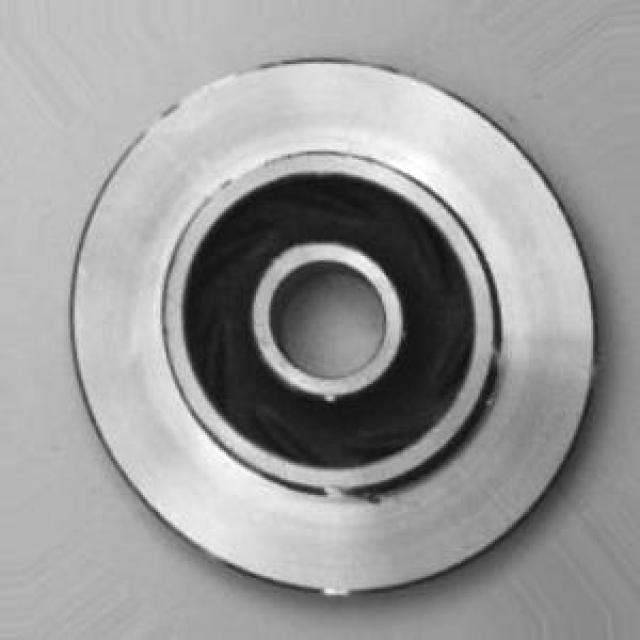Defect: (316, 476, 398, 518)
